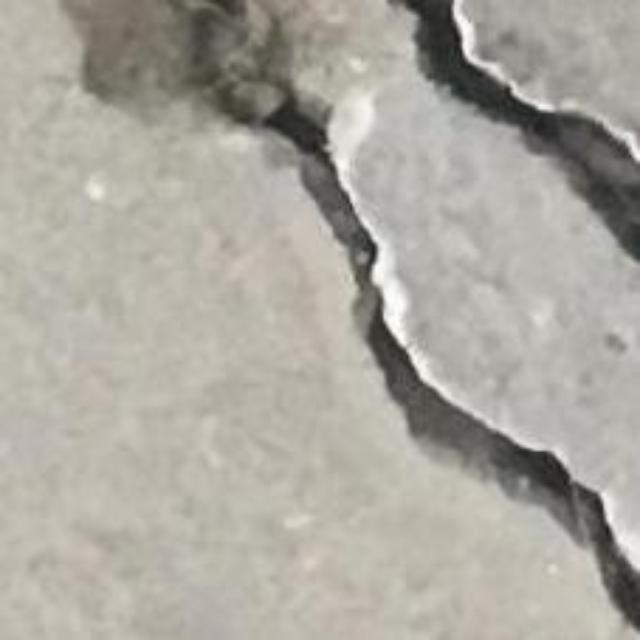crack: (164, 0, 639, 631)
